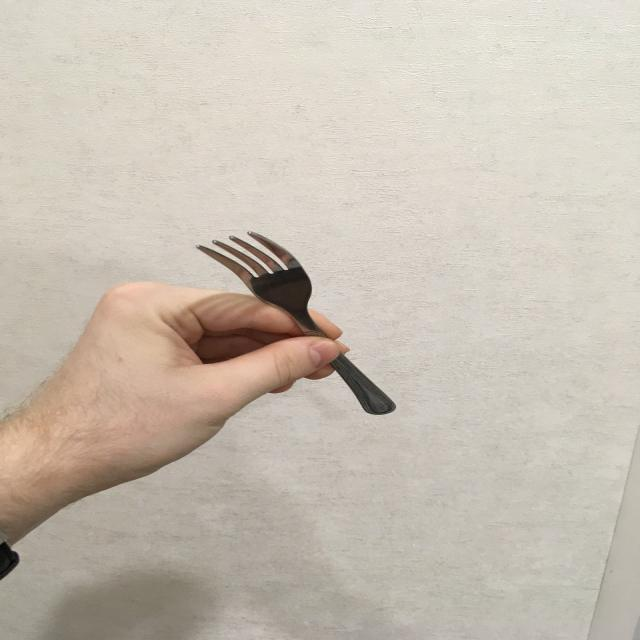fork: (196, 230, 396, 418)
